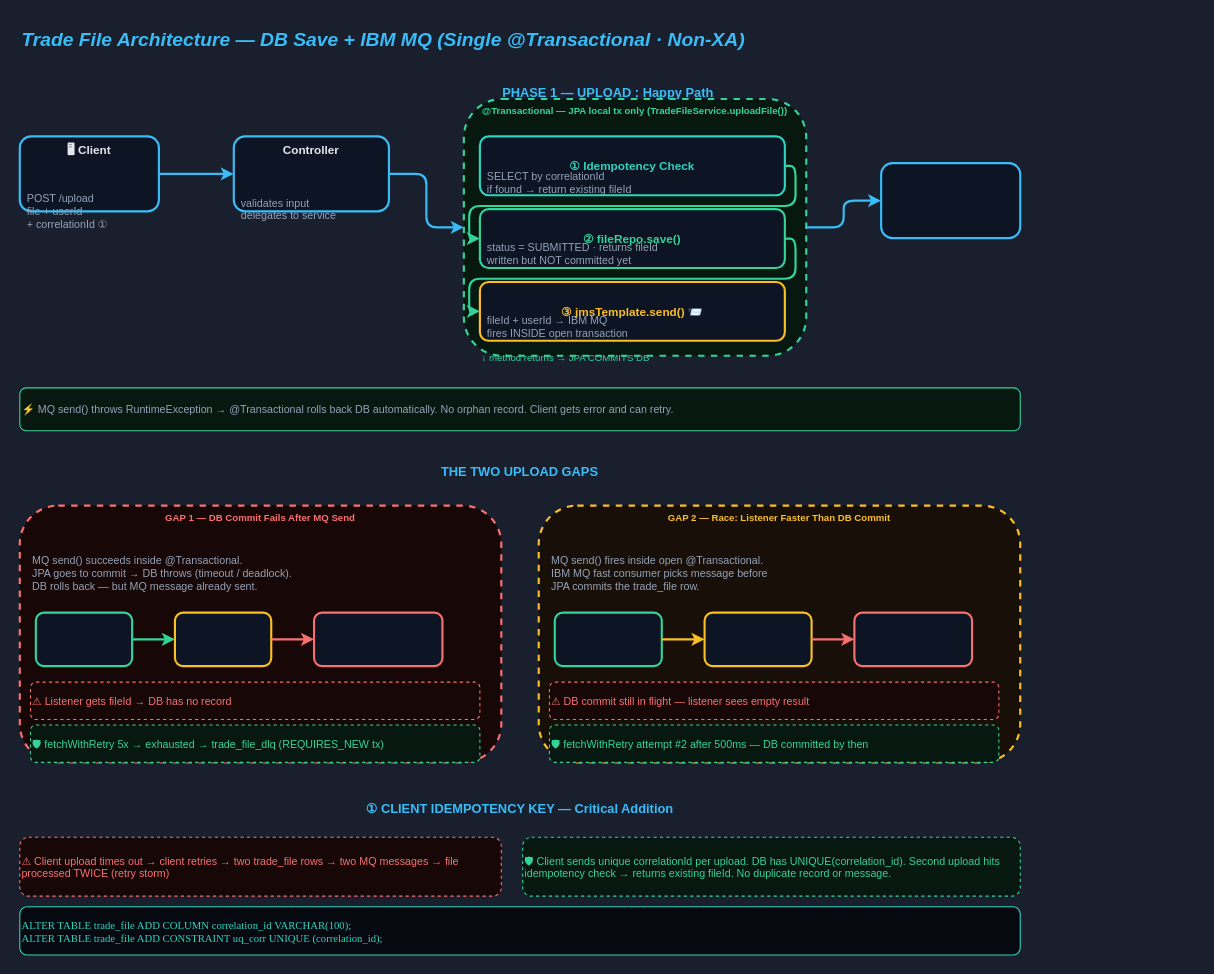
Some shapes in this 1214 by 974 pixel diagram are drawn without their labels. Each missing label, with the centre of its shape:
commit ❌ DB rolls back: (x=377, y=639)
HTTP 200 return fileId: (x=950, y=200)
Listener NOT FOUND: (x=913, y=639)
save() ✅: (x=83, y=639)
save() ✅ uncommitted: (x=607, y=639)
send() ✅: (x=222, y=639)
send() ✅ MQ fast: (x=757, y=639)
